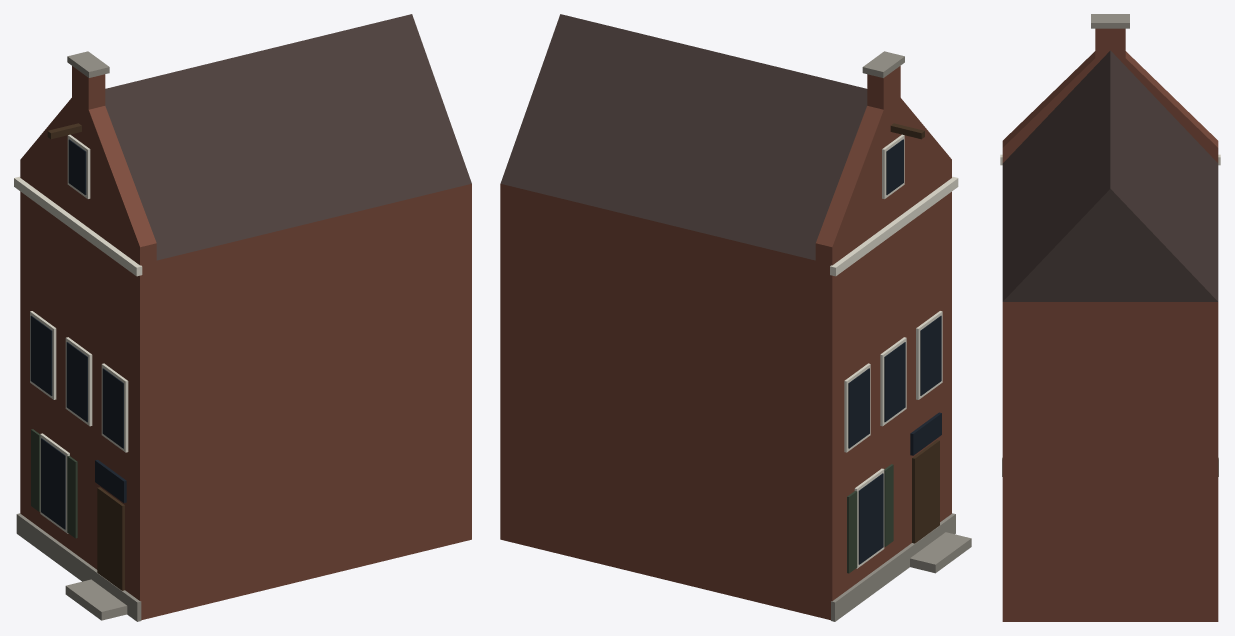
Rendered from gevel_tuit.glb.
The picture shows the model from 3 angles, left to right: view 1: azimuth 30°, elevation 25°; view 2: azimuth 150°, elevation 25°; view 3: azimuth 270°, elevation 25°; orthographic projection. The views are drawn at different scales.
Visible parts, largest first — view 1: Gevel; view 2: Gevel; view 3: Gevel.
Part boxes in pixels (x1,y1,x2,y2): Gevel: (14,14,471,621); Gevel: (500,14,971,621); Gevel: (1000,14,1220,621).
Size of the model in its own units: 8.75 by 11.82 by 5.12.
